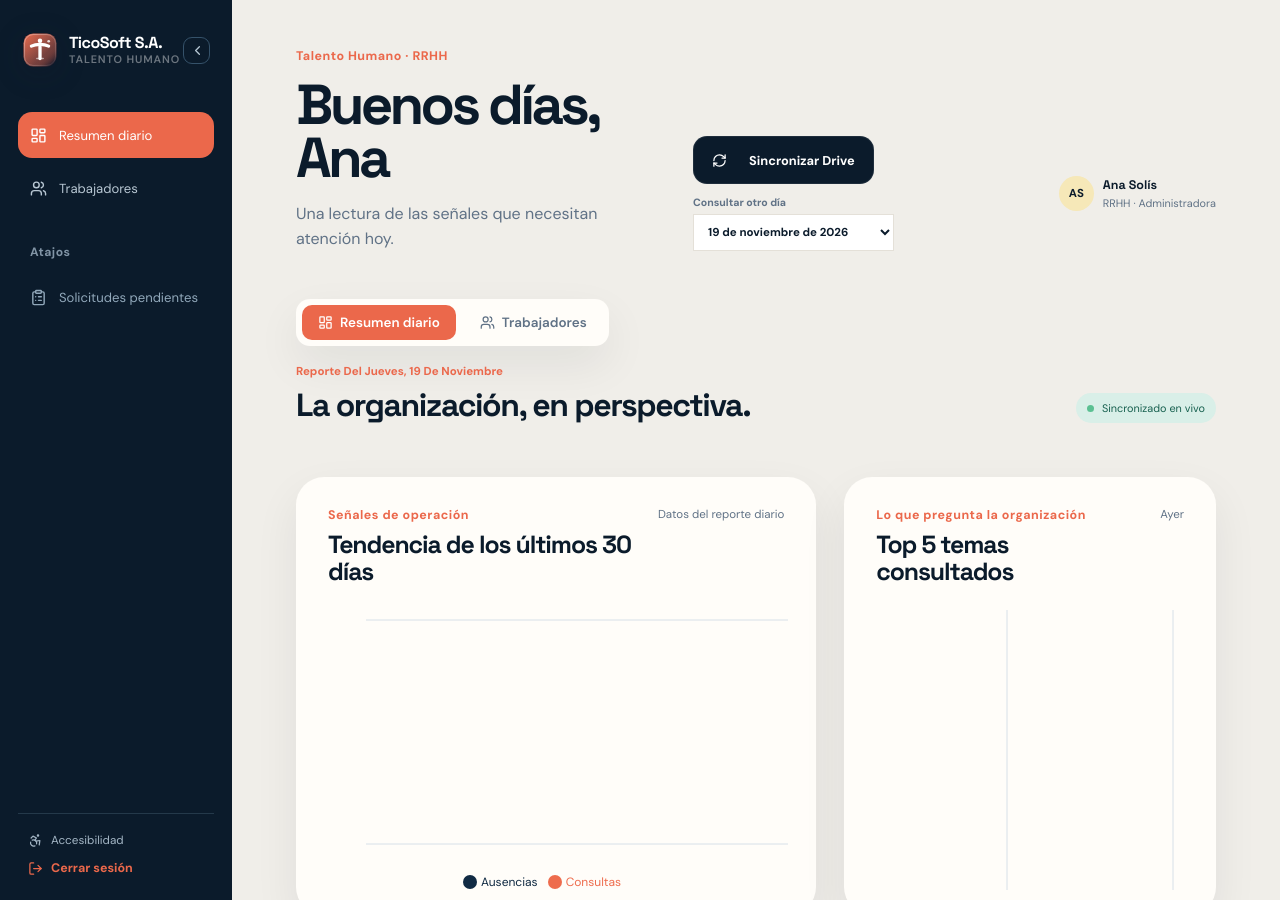
Test: HrWorkersPage y WorkersDirectory › cambia a la pestaña Trabajadores dentro de HrDashboardPage
What coordinates should you click on to do the following:
click the tab "Trabajadores"
I would click on:
 (533, 323)
Its box is [464, 305, 603, 340].
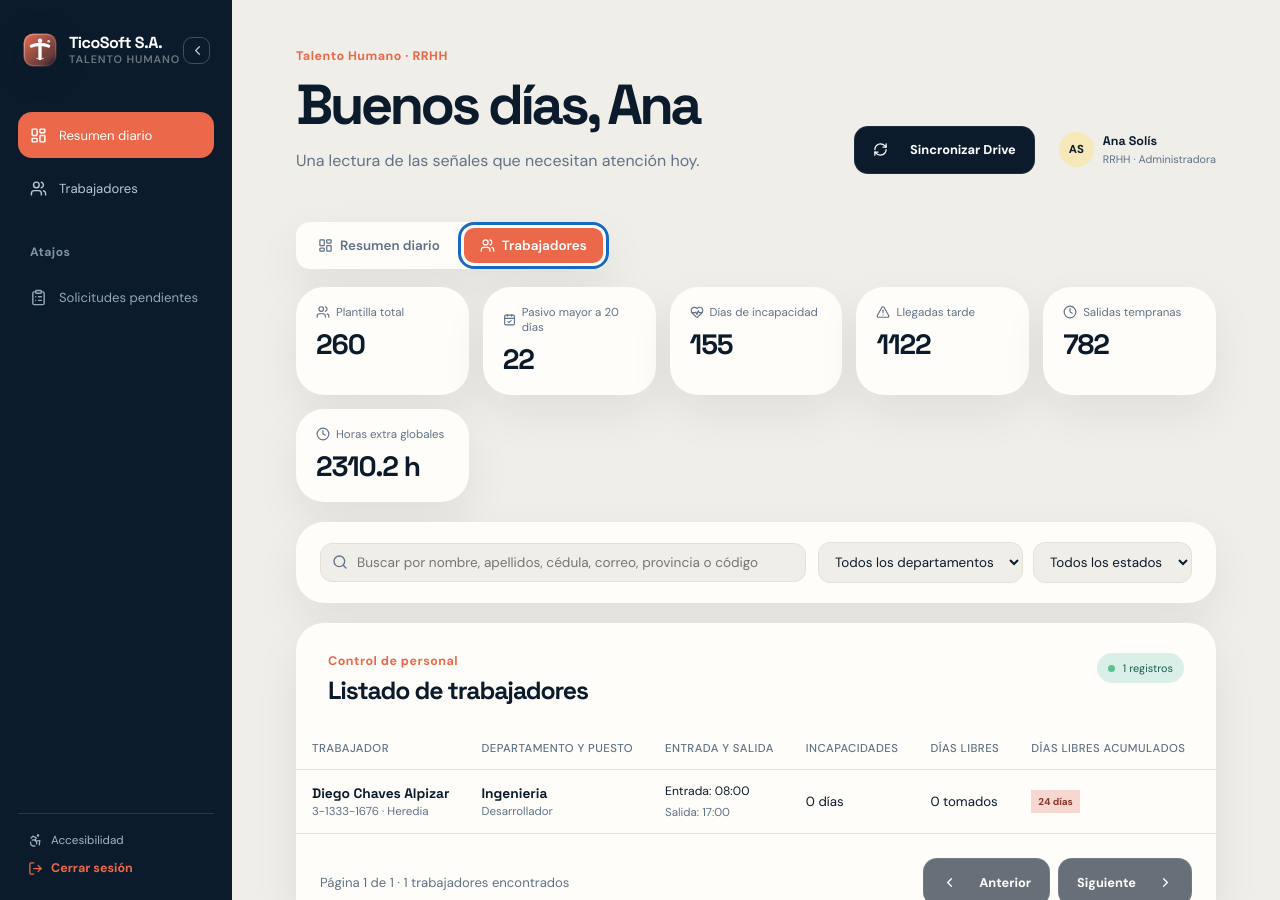
Now the text "Diego Chaves Alpizar" is shown, box [312, 784, 450, 802]
